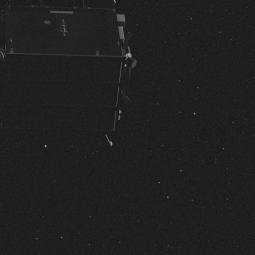proba_2: (10, 10, 137, 142)
